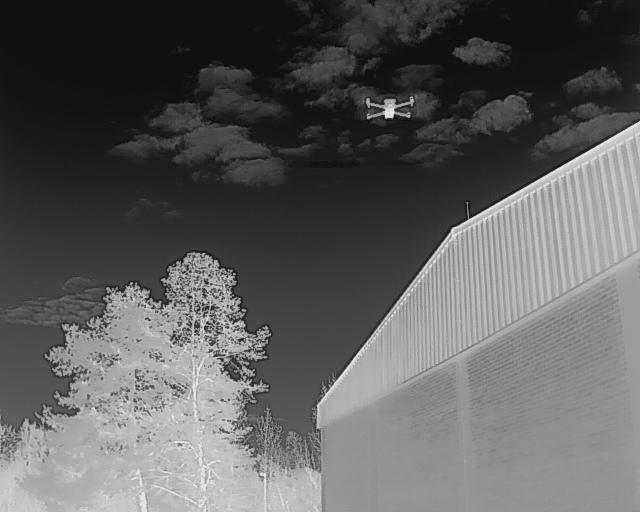drone: (357, 90, 420, 131)
